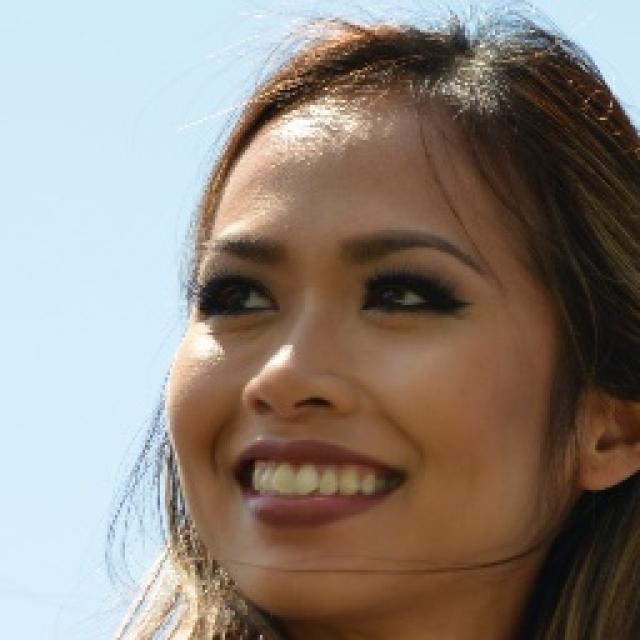earlobe: (572, 368, 640, 494)
